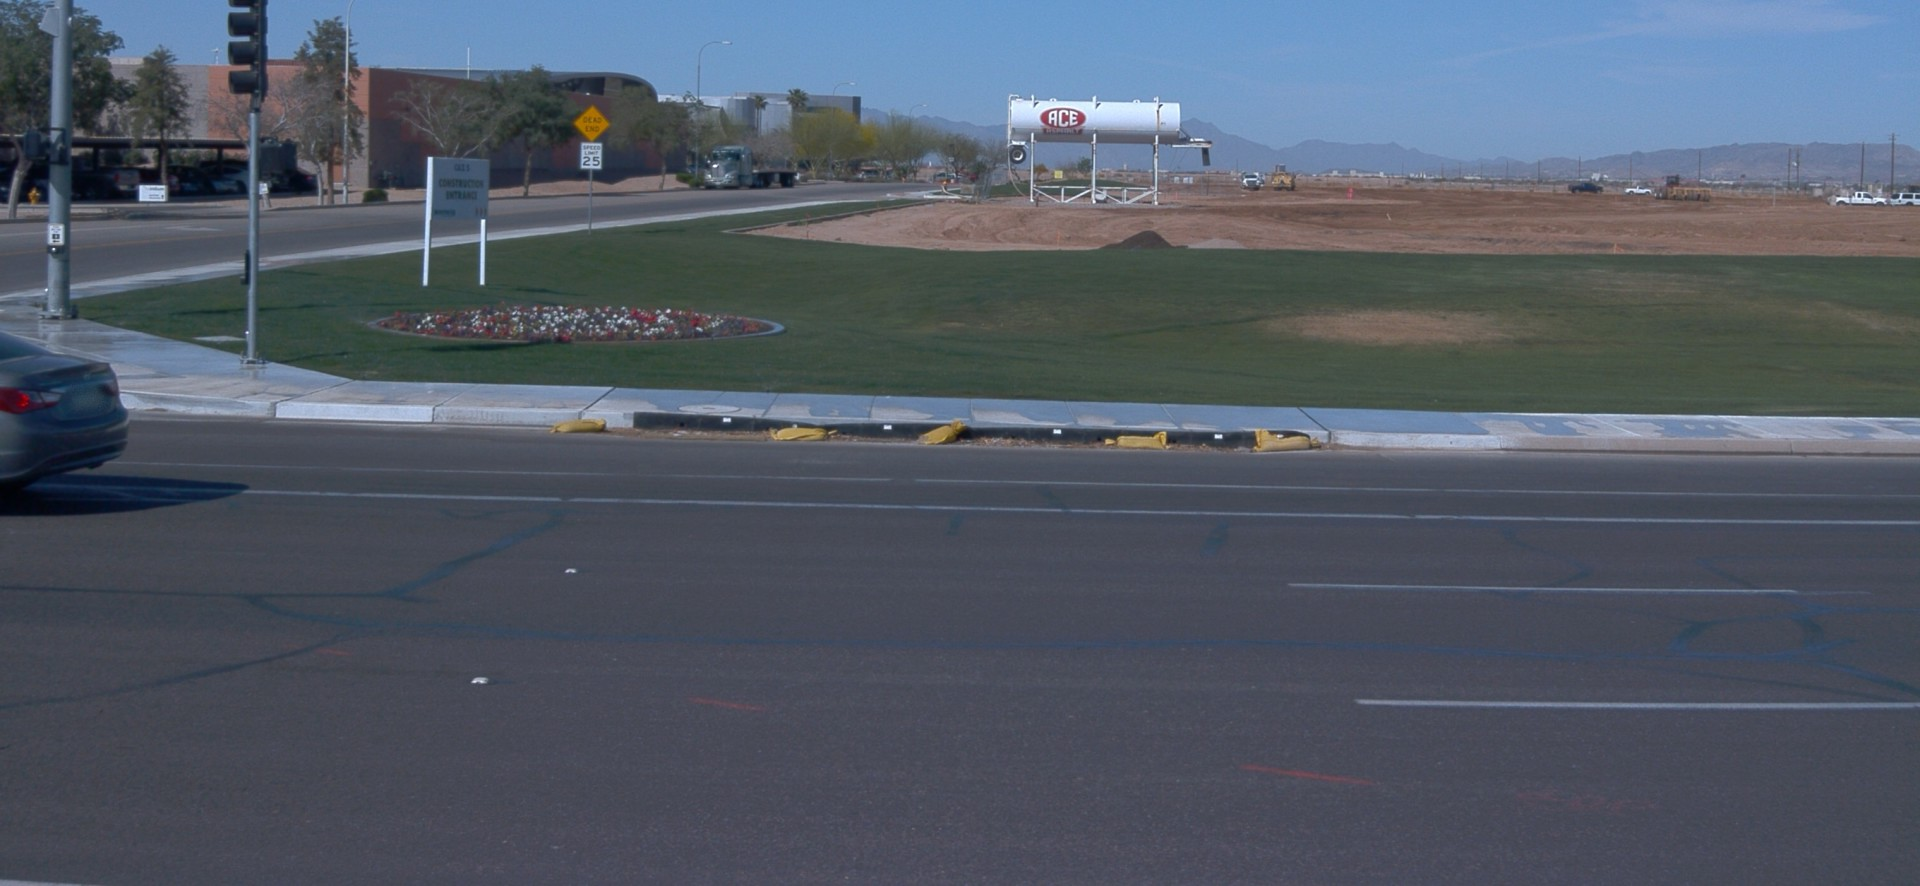TYPE_VEHICLE: (1, 331, 131, 509), (696, 147, 801, 194), (68, 153, 141, 203), (200, 160, 291, 197), (167, 164, 237, 198), (204, 164, 272, 195), (0, 168, 51, 208), (1650, 174, 1714, 202), (142, 167, 187, 198), (1835, 190, 1889, 209), (275, 169, 316, 190), (0, 176, 30, 203), (1273, 170, 1297, 191), (1889, 191, 1920, 206), (1564, 183, 1603, 193), (1241, 172, 1262, 190), (1625, 184, 1653, 195)
